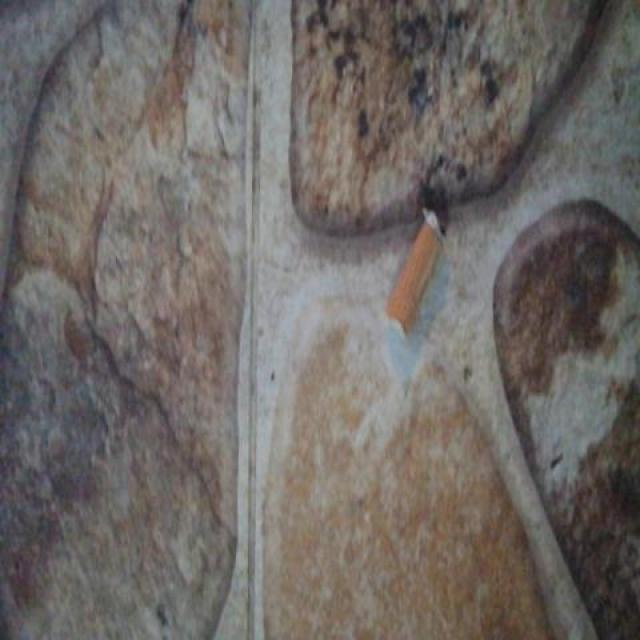non-organic waste: (375, 200, 453, 344)
